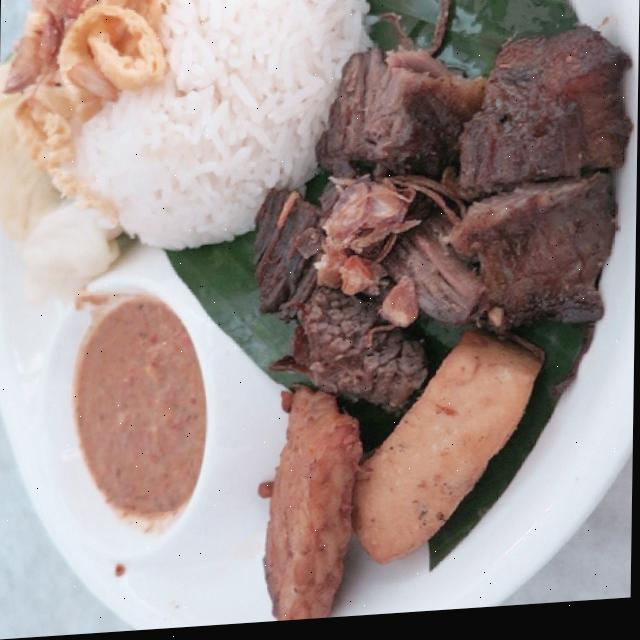米饭主食: (0, 0, 612, 629)
